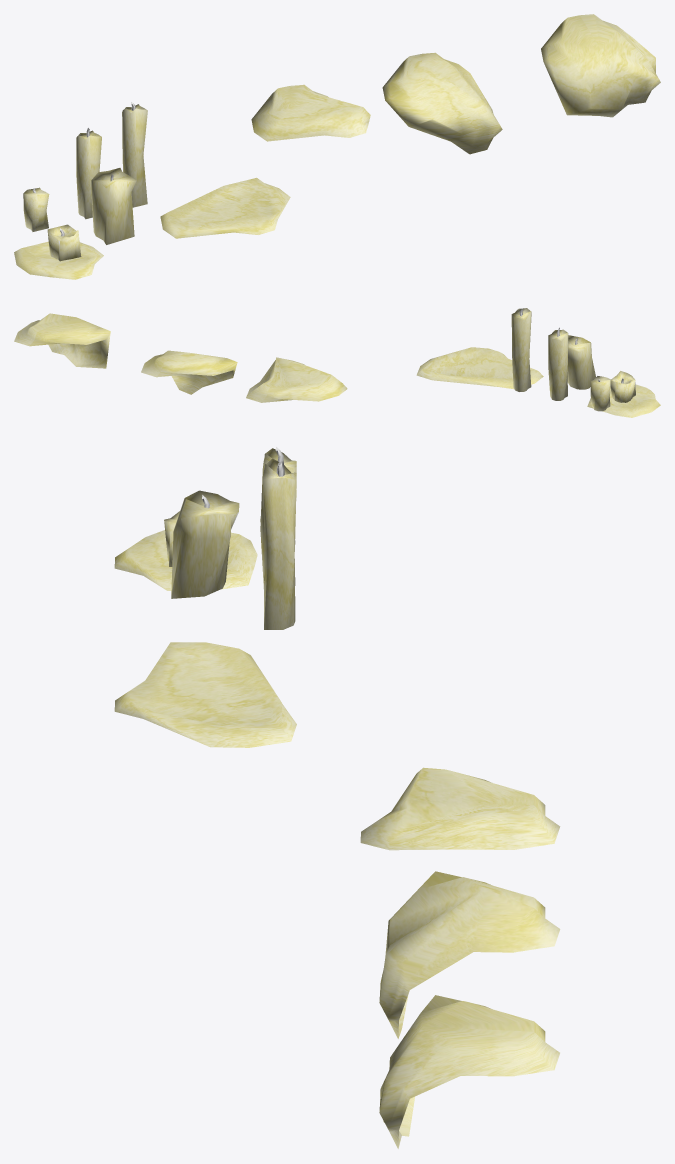
File: Candles.FBX
3 renders of one model, top to bottom at view 1: azimuth 30°, elevation 25°; view 2: azimuth 150°, elevation 25°; view 3: azimuth 270°, elevation 25°, orthographic. The views are drawn at different scales.
Visible parts, largest first — view 1: Box177, Box176, Box174, Box175, Box170, Box173, Box172, Box169, Box171, Box168; view 2: Box177, Box174, Box175, Box176, Box172, Box169, Box170, Box173, Box171, Box168; view 3: Box176, Box174, Box177, Box175, Box170, Box172, Box173.
Boxes of the visible parts, bbox=[...] form: Box177: bbox=[541, 14, 660, 117]; Box176: bbox=[382, 52, 502, 154]; Box174: bbox=[160, 177, 290, 238]; Box175: bbox=[251, 84, 370, 141]; Box170: bbox=[91, 168, 136, 244]; Box173: bbox=[14, 241, 103, 279]; Box172: bbox=[122, 104, 147, 207]; Box169: bbox=[76, 130, 101, 219]; Box171: bbox=[47, 224, 81, 261]; Box168: bbox=[23, 187, 49, 231]; Box177: bbox=[14, 313, 110, 368]; Box174: bbox=[416, 347, 543, 389]; Box175: bbox=[246, 357, 347, 402]; Box176: bbox=[141, 350, 237, 394]; Box172: bbox=[511, 308, 531, 391]; Box169: bbox=[548, 329, 568, 400]; Box170: bbox=[567, 335, 595, 389]; Box173: bbox=[587, 384, 660, 417]; Box171: bbox=[610, 371, 635, 402]; Box168: bbox=[590, 376, 610, 411]; Box176: bbox=[379, 871, 560, 1038]; Box174: bbox=[114, 642, 296, 747]; Box177: bbox=[379, 995, 559, 1148]; Box175: bbox=[360, 767, 560, 850]; Box170: bbox=[171, 490, 239, 598]; Box172: bbox=[263, 458, 296, 629]; Box173: bbox=[114, 530, 257, 590].
Bounding box in the file's own units: 31.67 × 7.39 × 10.85.
